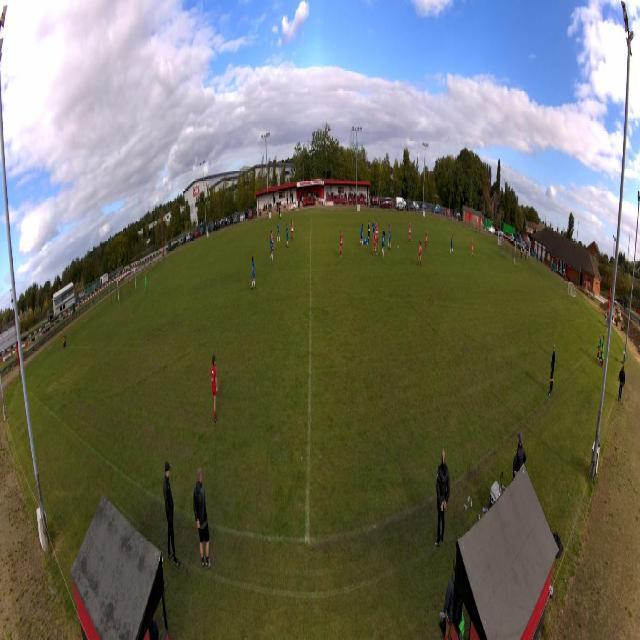ball: (397, 245, 399, 250)
player: (210, 354, 219, 426), (251, 255, 257, 292), (339, 229, 345, 258), (416, 239, 422, 267), (372, 230, 378, 258), (269, 234, 274, 263), (359, 223, 364, 248), (449, 233, 454, 257), (382, 230, 386, 258), (286, 222, 290, 249), (271, 229, 275, 256), (388, 225, 392, 251), (424, 228, 428, 253), (375, 221, 379, 245), (408, 221, 412, 245), (291, 219, 295, 241), (277, 222, 281, 243), (144, 274, 148, 295), (368, 219, 371, 243), (372, 218, 375, 242), (471, 239, 474, 259), (364, 237, 369, 247), (389, 221, 392, 237)
